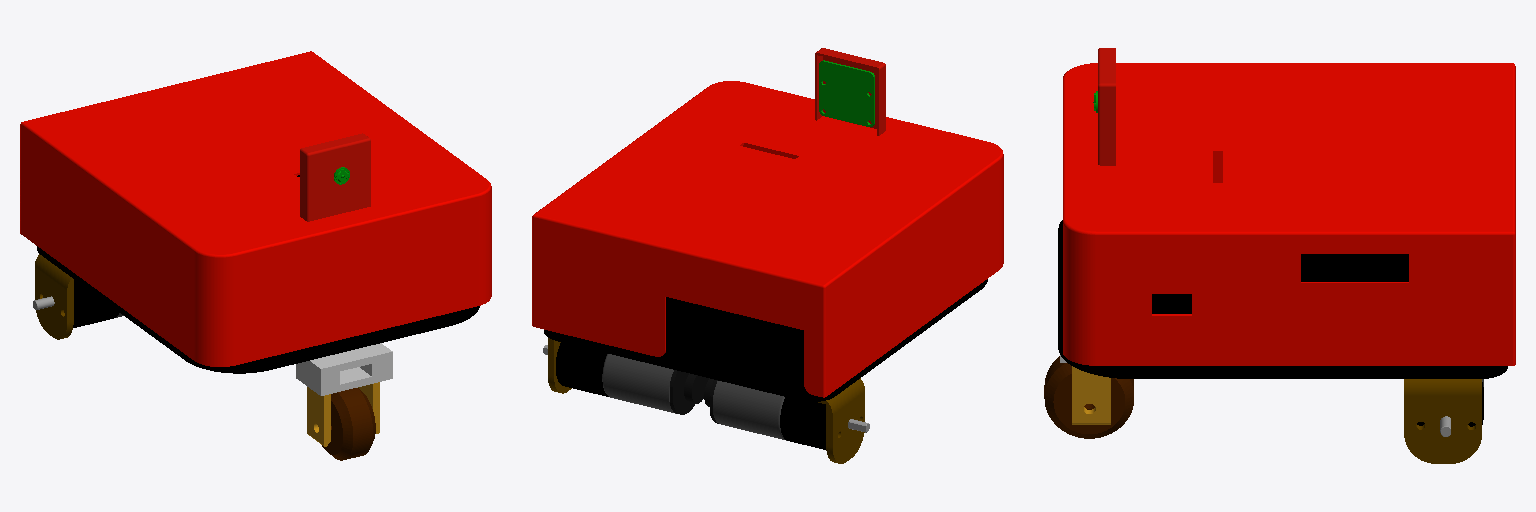
URDF robot description (vision_rpi_bot):
<robot name="vision_rpi_bot">

  <link name="base_footprint" />
<!-- ////////////////////////////////////  BASE LINK //////////////////////////////////////////////// -->
  <link name="base_link">
    <inertial>
      <mass value="4" />
      <origin xyz="0 0 0.1" rpy="0 0 0" />
      <inertia ixx="0.00355" iyy="0.01265" izz="0.013832" ixy="0.0" ixz="0.0" iyz="0.0" />
    </inertial>

    <visual>
      <geometry>
        <mesh filename="package://vision_rpi_bot/meshes/base.dae" />

      </geometry>

    </visual>

    <collision>
      <geometry>
        <mesh filename="package://vision_rpi_bot/meshes/base.dae" />
      </geometry>
    </collision>

  </link>
  <joint name="base_joint" type="fixed">
    <parent link="base_footprint" />
    <child link="base_link" />
    <origin rpy="0 0 0" xyz="0 0 0.14" />
  </joint>
<!-- ////////////////////////////////////  COVER LINK //////////////////////////////////////////////// -->

  <link name="cover_link">
    <inertial>
      <mass value="0.5" />
      <origin xyz="0 0 0.1" rpy="0 0 0" />
      <inertia ixx="0.00355" iyy="0.01265" izz="0.013832" ixy="0.0" ixz="0.0" iyz="0.0" />
    </inertial>

    <visual>
      <geometry>
        <mesh filename="package://vision_rpi_bot/meshes/cover.dae" />
      </geometry>

    </visual>

    <collision>
      <geometry>
        <mesh filename="package://vision_rpi_bot/meshes/cover.dae" />
      </geometry>
    </collision>


  </link>

  <joint name="cover_joint" type="fixed">
    <parent link="base_link" />
    <child link="cover_link" />
    <origin xyz="0.0015  0 0.08" rpy="0 0 0" />

  </joint>

<!-- ////////////////////////////////////  Right Wheel LINK //////////////////////////////////////////////// -->

  <link name="wheel_right_link">
    <inertial>
      <mass value="1" />
      <inertia ixx="0.001444223" iyy="0.00280875" izz="0.001444223" ixy="0.0" ixz="0.0" iyz="0.0" />
      <origin />
    </inertial>

    <visual>
      <origin xyz="0.0 0.0 0.0" rpy="0.0 0.0 3.14"/>
      <geometry>
        <mesh filename="package://vision_rpi_bot/meshes/wheel.dae" />
      </geometry>


    </visual>

    <collision>
      <geometry>
        <mesh filename="package://vision_rpi_bot/meshes/wheel.dae" />
      </geometry>
    </collision>

  </link>

  <joint name="wheel_right_joint" type="continuous">
    <origin xyz="-0.232  0.14 -0.045  " rpy="0 0.0 -1.57" />
    <parent link="base_link" />
    <child link="wheel_right_link" />
    <axis xyz="0 1 0" />
  </joint>
<!-- ////////////////////////////////////  Left Wheel LINK //////////////////////////////////////////////// -->

  <link name="wheel_left_link">
    <inertial>
      <mass value="1" />
      <inertia ixx="0.001444223" iyy="0.00280875" izz="0.001444223" ixy="0.0" ixz="0.0" iyz="0.0" />
      <origin />
    </inertial>

    <visual>

      <geometry>
        <mesh filename="package://vision_rpi_bot/meshes/wheel.dae" />
      </geometry>


    </visual>

    <collision>
      <geometry>
        <mesh filename="package://vision_rpi_bot/meshes/wheel.dae" />
      </geometry>
    </collision>
  </link>

  <joint name="wheel_left_joint" type="continuous">
    <origin xyz="0.233  0.14 -0.045  " rpy="0 0.0 -1.57" />
    <parent link="base_link" />
    <child link="wheel_left_link" />
    <axis xyz="0.0 1 0" />

  </joint>
<!-- ////////////////////////////////////  Caster Holder LINK //////////////////////////////////////////////// -->

<link name="caster_holder_link">

  <inertial>
    <mass value="0.1" />
    <inertia ixx="0.0001295" iyy="0.0001295" izz="0.000199322" ixy="0.0" ixz="0.0" iyz="0.0" />
    <origin />
  </inertial>

  <visual>
    <geometry>
      <mesh filename="package://vision_rpi_bot/meshes/caster_holder.dae" />
    </geometry>
  </visual>

  <collision>
    <geometry>
      <mesh filename="package://vision_rpi_bot/meshes/caster_holder.dae" />
    </geometry>
  </collision>

</link>

<joint name="caster_holder_joint" type="continuous">
  <origin xyz="0 -0.19 -0.015" rpy="0.0 0.0 0.0" />
  <axis xyz="0 0 1" />
  <parent link="base_link" />
  <child link="caster_holder_link" />
</joint>
<!-- ////////////////////////////////////  Caster Wheel LINK //////////////////////////////////////////////// -->
   <link name="caster_wheel_link">
    <inertial>
      <mass value="0.1" />
      <inertia ixx="0.0001295" iyy="0.0001295" izz="0.000199322" ixy="0.0" ixz="0.0" iyz="0.0" />
      <origin />
    </inertial>
    <visual>
      <geometry>
        <mesh filename="package://vision_rpi_bot/meshes/caster_wheel.dae" />
      </geometry>
    </visual>
    <collision>
      <geometry>
        <mesh filename="package://vision_rpi_bot/meshes/caster_wheel.dae" />
      </geometry>
    </collision>
  </link>

  <joint name="caster_wheel_joint" type="continuous">
    <origin xyz="0 -0.003  -0.086" rpy="0.0 0.0 0.0" />
    <axis xyz="1 0 0" />
    <parent link="caster_holder_link" />
    <child link="caster_wheel_link" />
  </joint>


<!-- ////////////////////////////////////  Camera LINK //////////////////////////////////////////////// -->

  <link name="camera_link">

    <inertial>
      <mass value="0.75" />
      <inertia ixx="0.0001295" iyy="0.0001295" izz="0.000199322" ixy="0.0" ixz="0.0" iyz="0.0" />
      <origin />
    </inertial>

    <visual>
      <origin xyz="0.0 0.0 0.0" rpy="0.0 0.0 1.57"/>
      <geometry>
        <mesh filename="package://vision_rpi_bot/meshes/rpi_camera.dae" />
      </geometry>
    </visual>

    <collision>
      <geometry>
        <mesh filename="package://vision_rpi_bot/meshes/rpi_camera.dae" />
      </geometry>
    </collision>
  </link>

  <joint name="camera_joint" type="fixed">
    <origin xyz="0 -0.18 0.2" rpy="0.0 0 -1.57" />
    <parent link="base_link" />
    <child link="camera_link" />

  </joint>

<!-- ////////////////// Lidar Link .//////////////// -->
<link name="lidar_link"/>

 <joint name="lidar_joint" type="fixed">
    <origin xyz="0 -0.25 0.1" rpy="0.0 0 -3.14" />
    <parent link="base_link" />
    <child link="lidar_link" />

  </joint>
<!-- //////////////////////////////////   Differential Drive Plugin  //////////////////////////////// -->
<gazebo>
      <plugin filename="libgazebo_ros_diff_drive.so" name="vision_rpi_bot_controller">
        <odometry_frame>odom</odometry_frame>
        <commandTopic>cmd_vel</commandTopic>
        <publish_odom>true</publish_odom>
        <publish_odom_tf>true</publish_odom_tf>
        <update_rate>15.0</update_rate>
        <left_joint>wheel_left_joint</left_joint>
        <right_joint>wheel_right_joint</right_joint>
        <wheel_separation>0.47</wheel_separation>
        <wheel_diameter>0.2</wheel_diameter>
        <max_wheel_acceleration>2</max_wheel_acceleration>
        <robotBaseFrame>base_link</robotBaseFrame>

      </plugin>
    </gazebo>


<!-- ///////////////////////////////////////// Camera Plugin ////////////////////// -->

  <gazebo reference="camera_link">
    <sensor type="camera" name="vision_rpi_bot_camera">
      <update_rate>30.0</update_rate>
      <camera name="head">
        <horizontal_fov>1.3962634</horizontal_fov>
        <image>
          <width>1280</width>
          <height>720</height>
          <format>R8G8B8</format>
        </image>
        <clip>
          <near>0.02</near>
          <far>300</far>
        </clip>
        <noise>
          <type>gaussian</type>
          <!-- Noise is sampled independently per pixel on each frame.
               That pixel's noise value is added to each of its color
               channels, which at that point lie in the range [0,1]. -->
          <mean>0.0</mean>
          <stddev>0.007</stddev>
        </noise>
      </camera>
      <plugin name="rpi_bot_camera_controller" filename="libgazebo_ros_camera.so">
        <alwaysOn>true</alwaysOn>
        <visualize>true</visualize>
        <updateRate>0.0</updateRate>
        <cameraName>VRB/camera</cameraName>
        <imageTopicName>image_raw</imageTopicName>
        <cameraInfoTopicName>camera_info</cameraInfoTopicName>
        <frameName>camera_link</frameName>
        <hackBaseline>0.07</hackBaseline>
        <distortionK1>0.0</distortionK1>
        <distortionK2>0.0</distortionK2>
        <distortionK3>0.0</distortionK3>
        <distortionT1>0.0</distortionT1>
        <distortionT2>0.0</distortionT2>
      </plugin>
    </sensor>
  </gazebo>



<!-- /////////////////////////////////////////////  Lidar Plugin     //////////////////////////////////////  -->


<gazebo reference="lidar_link">
  <sensor name="VRB_lidar" type="ray">
    <visualize>true</visualize>
    <update_rate>15.0</update_rate>
    <plugin filename="libgazebo_ros_ray_sensor.so" name="lidar_plugin">
    <ros>
      <remapping>~/out:=scan</remapping>
    </ros>
    <output_type>sensor_msgs/LaserScan</output_type>
    <frame_name>lidar_link</frame_name>
    </plugin>
    <ray>
      <scan>
        <horizontal>
          <samples>360</samples>
          <resolution>1</resolution>
          <min_angle>0.00</min_angle>
          <max_angle>3.14</max_angle>
        </horizontal>
      </scan>
      <range>
        <min>0.01</min>
        <max>0.7</max>
        <resolution>0.015</resolution>
      </range>
      <noise>
        <type>gaussian</type>
        <mean>0.0</mean>
        <stddev>0.01</stddev>
      </noise>
    </ray>
  </sensor>
</gazebo>


</robot>

--- What the picture shows (computed from the rendered views, not written in the file) ---
The picture shows the robot from 3 angles, left to right: view 1: azimuth 30°, elevation 25°; view 2: azimuth 150°, elevation 25°; view 3: azimuth 270°, elevation 25°; orthographic projection.
Robot: vision_rpi_bot — 9 links, 8 joints (4 continuous, 4 fixed); root link base_footprint; default pose: all joints at 0.
Links seen in each view (by area): view 1: cover_link, base_link, camera_link, caster_holder_link, caster_wheel_link; view 2: cover_link, base_link, camera_link; view 3: cover_link, base_link, caster_wheel_link, camera_link, caster_holder_link.
Boxes of the visible links, <box> form: cover_link: <box>20,51,491,366</box>; base_link: <box>33,175,479,373</box>; camera_link: <box>300,133,370,221</box>; caster_holder_link: <box>296,343,392,446</box>; caster_wheel_link: <box>322,388,375,460</box>; cover_link: <box>532,81,1003,397</box>; base_link: <box>543,279,987,463</box>; camera_link: <box>815,48,885,135</box>; cover_link: <box>1063,63,1515,365</box>; base_link: <box>1058,220,1507,463</box>; caster_wheel_link: <box>1044,356,1133,438</box>; camera_link: <box>1093,48,1115,165</box>; caster_holder_link: <box>1060,355,1110,424</box>.
Bounding box of the posed robot: 0.4144 × 0.4396 × 0.3775 m (x, y, z).
Meshes: 6 distinct files referenced, 5 mesh visuals loaded (5 Collada DAE); not drawn: 2 (reference not matched to a file when rendering).
